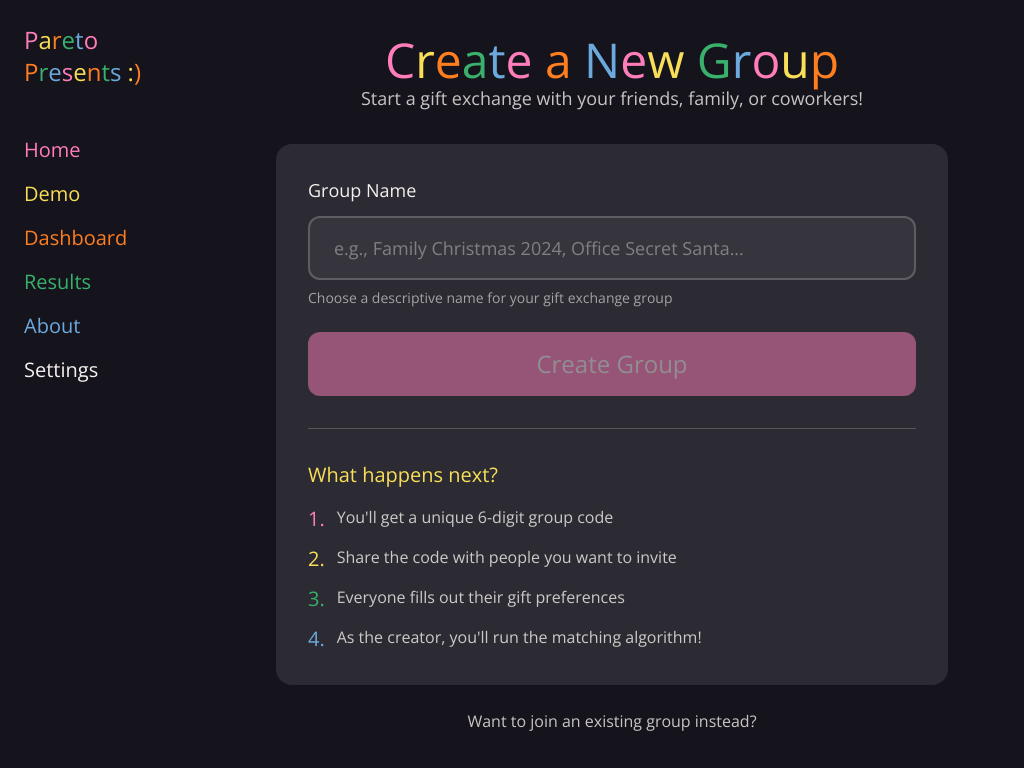
Test case: CreateGroupPage › Group creation flow › creates group and redirects to dashboard on success
Type "My Test Group" into the field with placeholder "e.g., Family Christmas 2024, Office Secret Santa..." at (612, 248), box [308, 216, 916, 280]
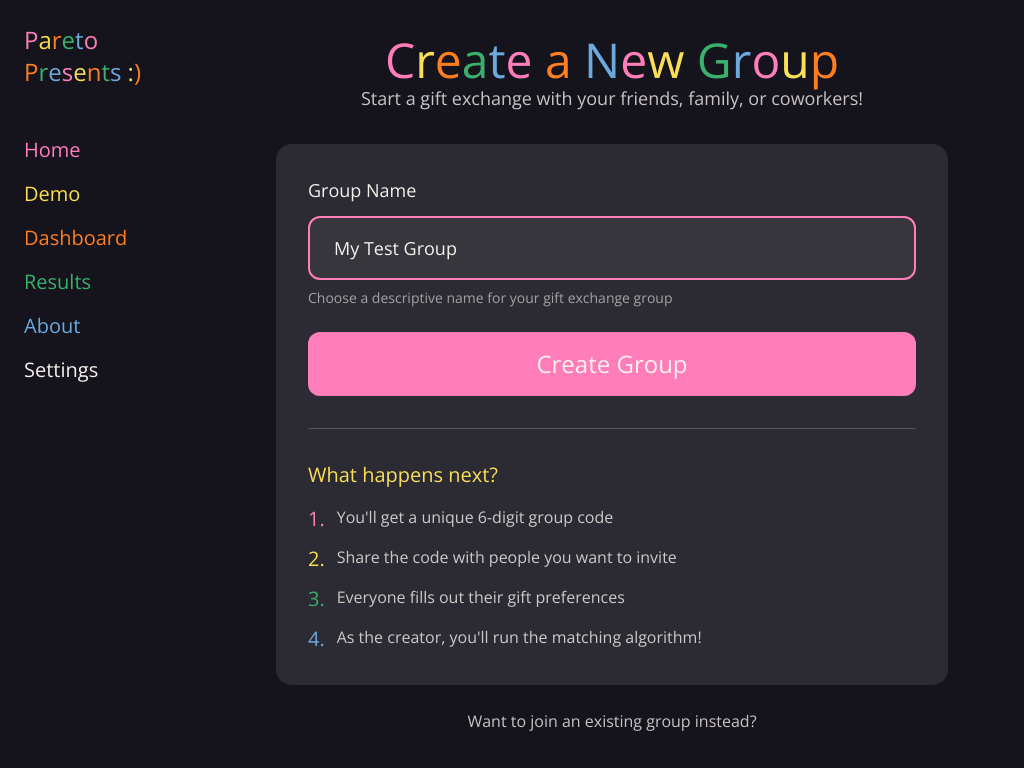
Click the button "Create Group" at (612, 364), box [308, 332, 916, 396]
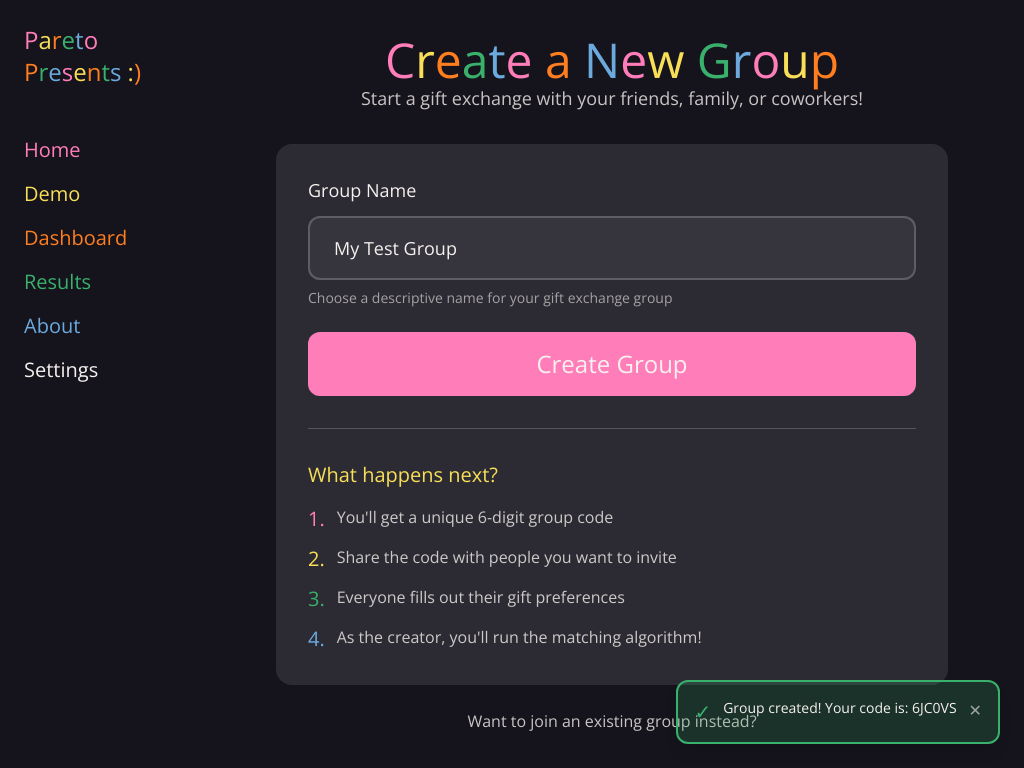
Expected: the text "Group created!" is shown, [723, 698, 957, 717]
